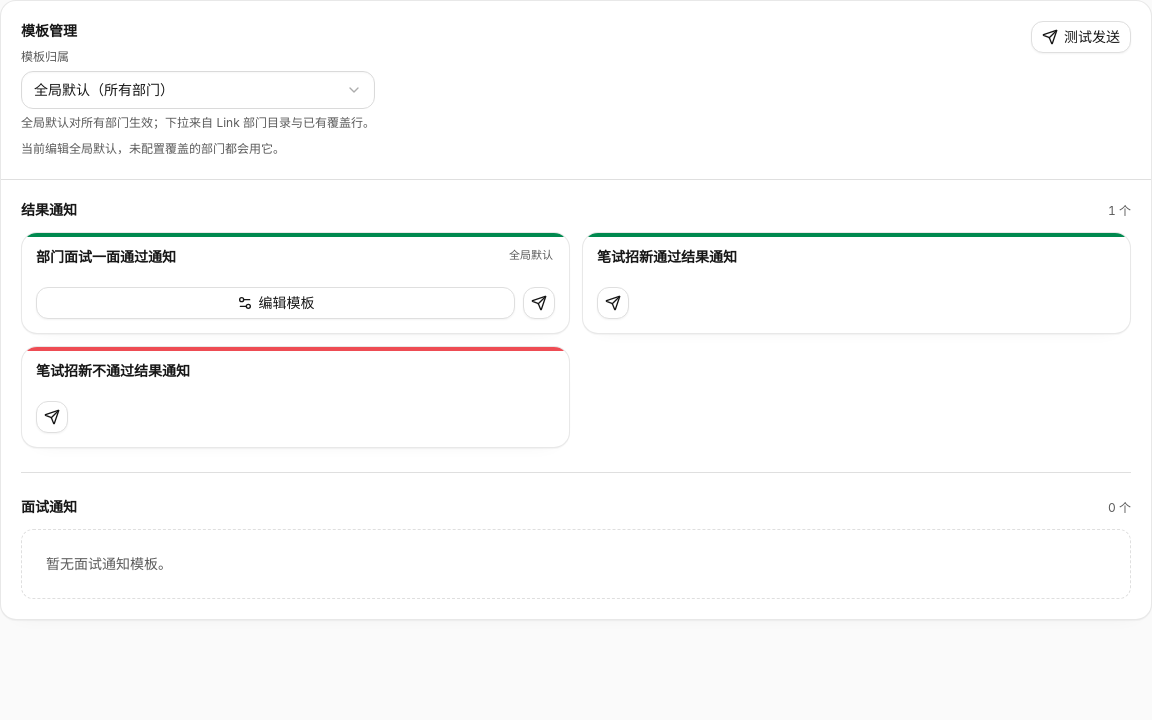
Test case: EmailTemplateManagementSection › 测试发送默认跟随当前流程类型：部门面试默认一面通过模板
Click the button "测试发送" at (1081, 37), box [1031,21,1131,53]
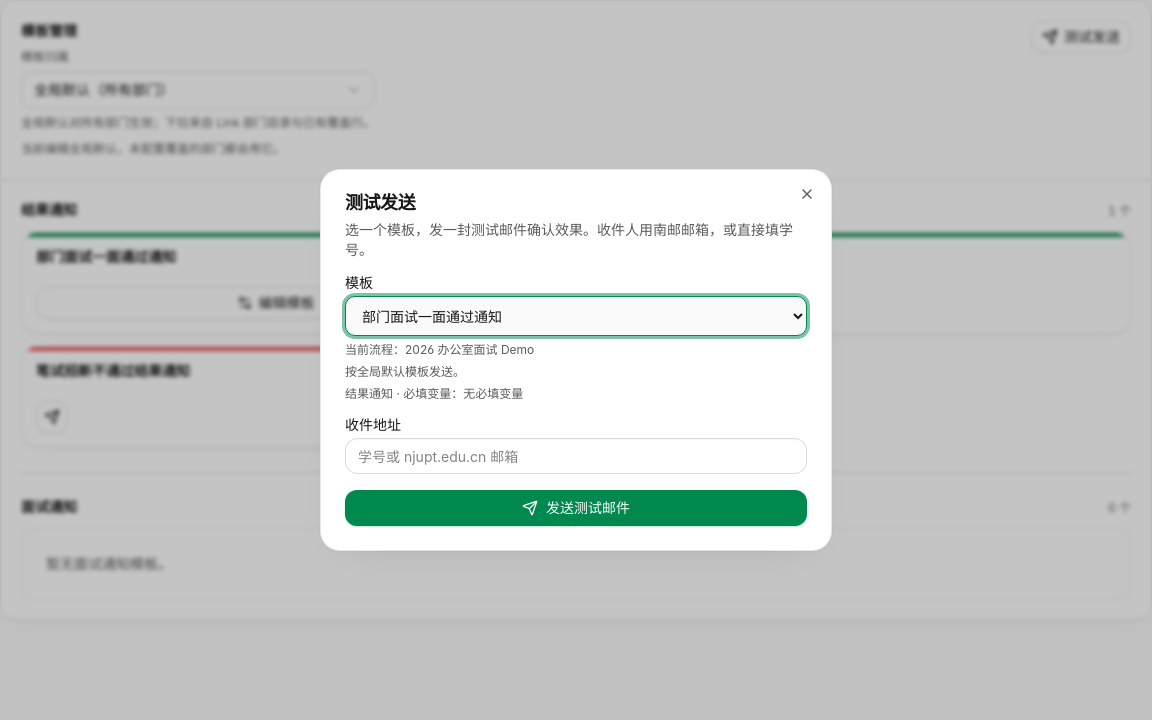
Now the dropdown labelled "模板" shows "部门面试一面通过通知", box [345,296,807,336]
Now the text "当前流程：2026 办公室面试 Demo" is shown, box [345,342,534,357]
